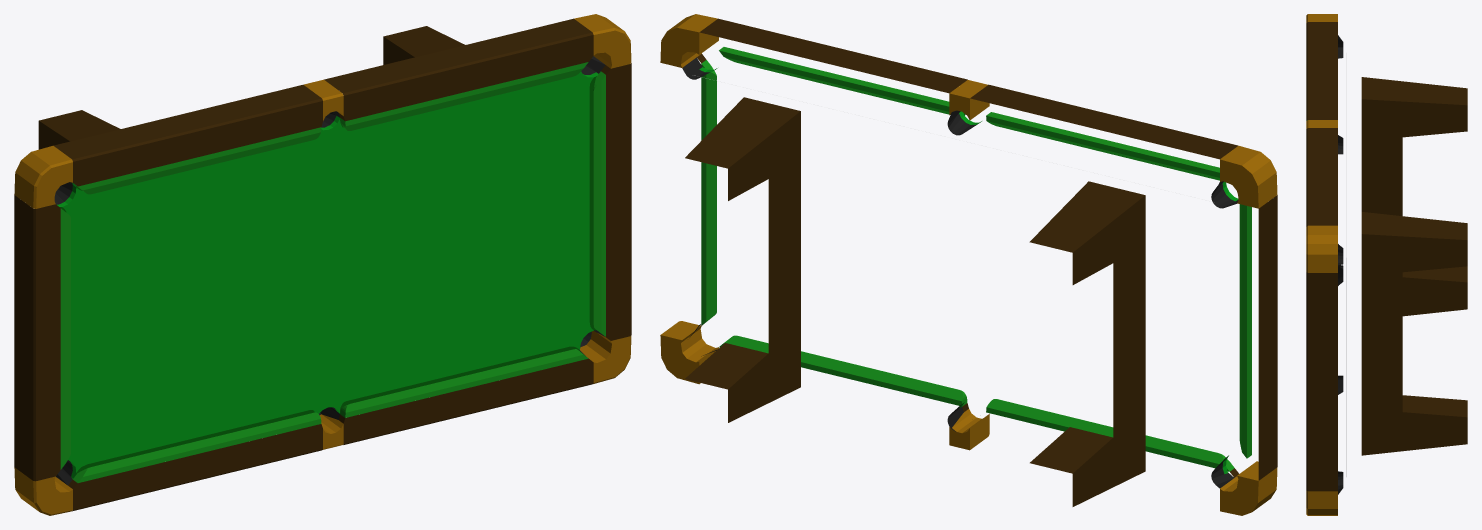
The model's file is snooker.gltf.
3 renders of one model, left to right at view 1: azimuth 30°, elevation 25°; view 2: azimuth 150°, elevation 25°; view 3: azimuth 270°, elevation 25°, orthographic. The views are drawn at different scales.
Parts seen in each view (by area): view 1: FullCloth, SideRail, EndRail, SideCushion, CornerMetal, EndCushion, Legs, Cube, centercup.001; view 2: Legs, SideCushion, SideRail, CornerMetal, EndCushion, EndRail, Cube, centercup.001; view 3: Legs, EndRail, SideRail, CornerMetal, centercup.001, BallExtentsForMirror, Cube, centercup.
Boxes of the visible parts, x1,y1,x2,y2 form: FullCloth: (57,71,598,478); SideRail: (54,18,593,511); EndRail: (14,63,631,481); SideCushion: (73,62,588,482); CornerMetal: (14,14,631,515); EndCushion: (60,71,605,469); Legs: (38,26,464,149); Cube: (304,79,343,449); centercup.001: (54,56,605,485); Legs: (685,97,1145,506); SideCushion: (719,47,1234,471); SideRail: (699,18,1238,477); CornerMetal: (660,14,1277,515); EndCushion: (701,60,1251,458); EndRail: (697,54,1277,480); Cube: (949,80,989,450); centercup.001: (682,57,1238,488); Legs: (1361,77,1467,455); EndRail: (1306,272,1337,491); SideRail: (1306,22,1337,226); CornerMetal: (1306,14,1337,515); centercup.001: (1338,35,1343,494); BallExtentsForMirror: (1346,53,1346,476); Cube: (1306,120,1337,128); centercup: (1338,135,1343,394).
Size of the model in its own units: 50.25 by 28.25 by 14.65.
